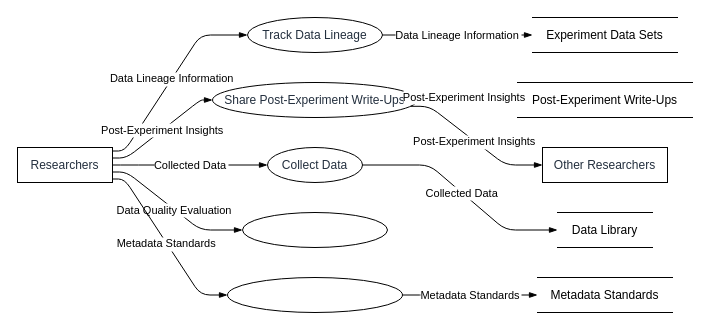
Image size: 710x330. Some labels were removed from this diagram. Each missing label, with the centre of its shape:
Evaluate Data Quality: point 315,230
Provide Metadata Standard: point 314,294
